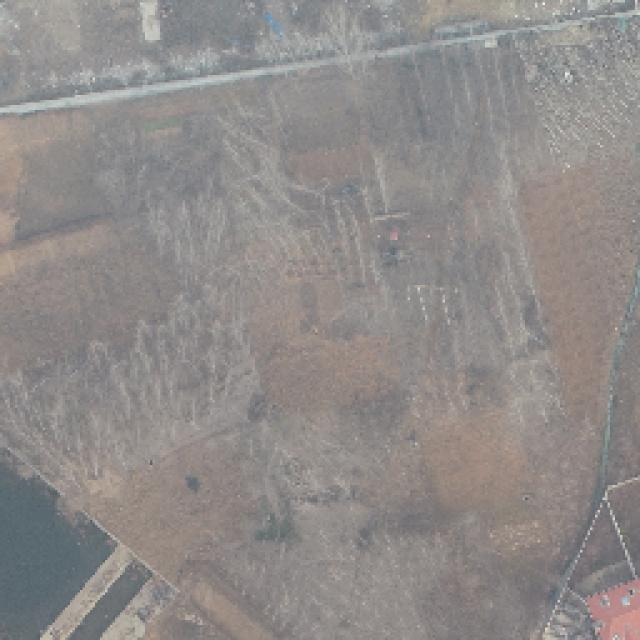Batiment: (588, 580, 640, 640)
